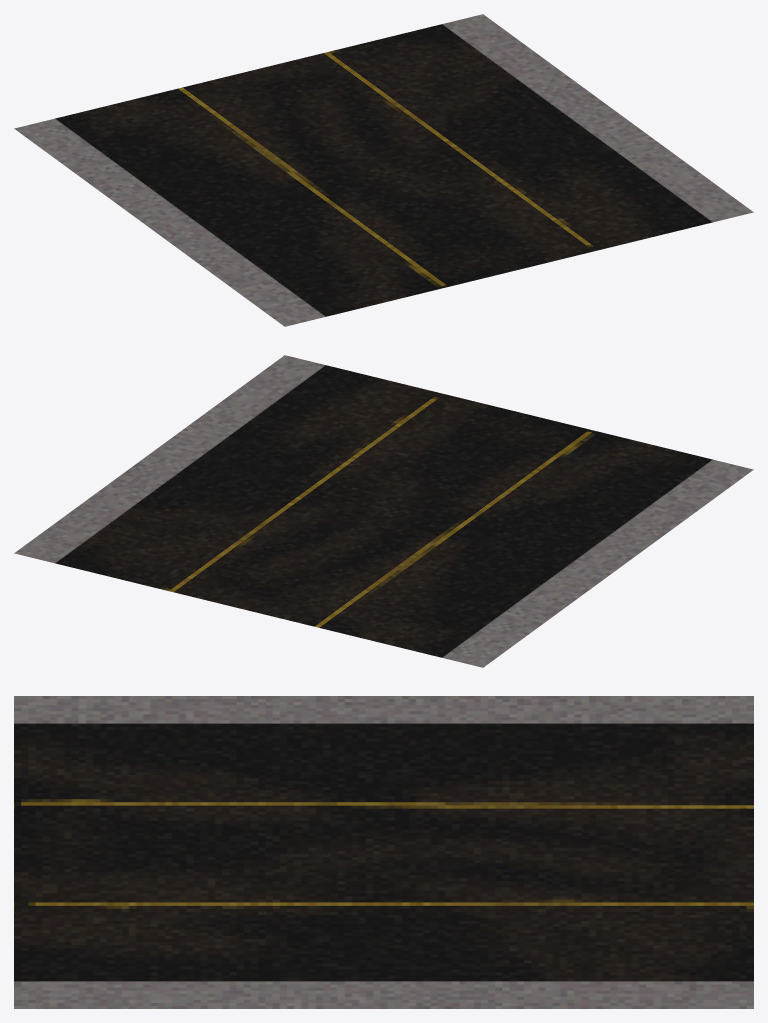
Rendered from route.glb.
3 renders of one model, top to bottom at view 1: azimuth 30°, elevation 25°; view 2: azimuth 150°, elevation 25°; view 3: azimuth 270°, elevation 25°, orthographic. The views are drawn at different scales.
Parts seen in each view (by area): view 1: Plane; view 2: Plane; view 3: Plane.
Part boxes in pixels (x1,y1,x2,y2): Plane: [14, 14, 753, 326]; Plane: [14, 355, 753, 667]; Plane: [14, 696, 753, 1008].
Bounding box in the file's own units: 2 × 0 × 2.
1 material, 1 textured.
